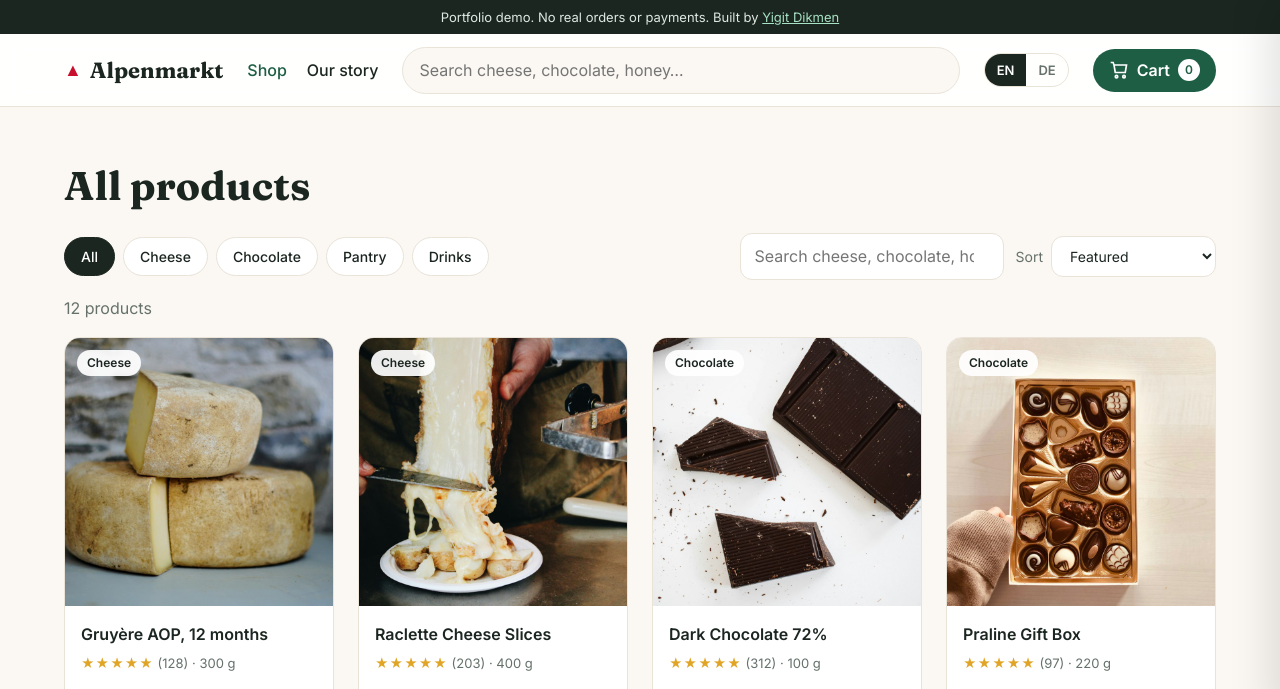
Test case: Alpenmarkt user flows › switches the interface to German
Step 1. Click the button "DE" → (1047, 70), box [1026,54,1068,86]
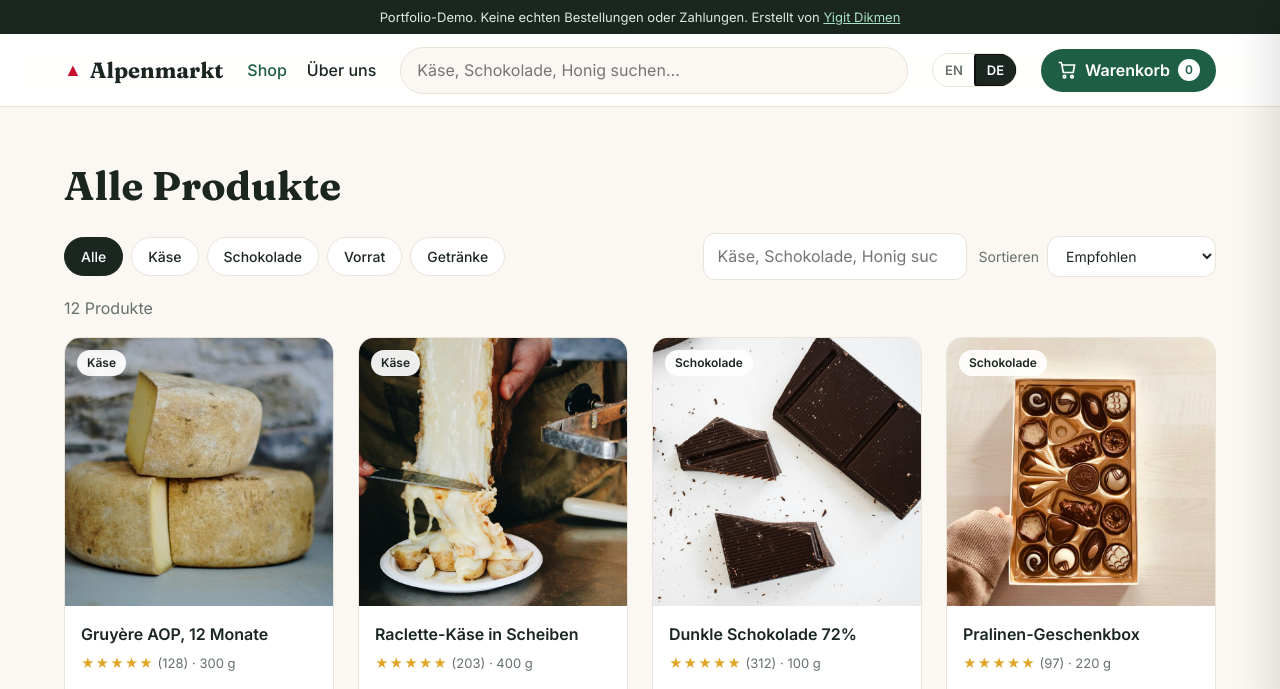
Result: the heading "Alle Produkte" is shown at [64,161,341,210]
